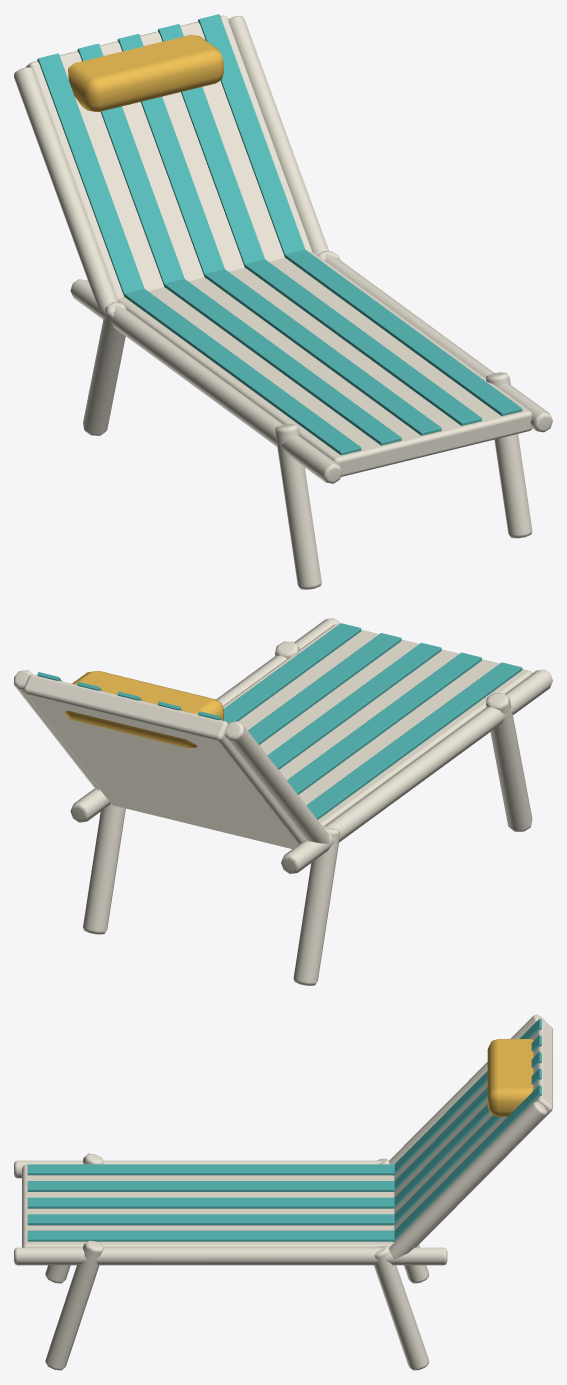
File: lounger.glb
3 renders of one model, top to bottom at view 1: azimuth 30°, elevation 25°; view 2: azimuth 150°, elevation 25°; view 3: azimuth 270°, elevation 25°, orthographic. The views are drawn at different scales.
Visible parts, largest first — view 1: Seat, Back, Pillow, Frame, BackStripe, BackFrame, BackStripe.004, SeatStripe, SeatStripe.004, SeatStripe.003, SeatStripe.001, SeatStripe.002 (+8 smaller); view 2: Back, Seat, Frame, SeatStripe, SeatStripe.001, SeatStripe.002, Pillow, FrontLeg, SeatStripe.003, BackFrame, RearLeg, FrontLeg.001 (+3 smaller); view 3: Seat, Frame.001, SeatStripe.002, SeatStripe.003, SeatStripe, SeatStripe.004, Back, SeatStripe.001, BackFrame.001, Pillow, RearLeg.001, FrontLeg.001 (+9 smaller).
Boxes of the visible parts, left/top/right/bottom form: Seat: left=117, top=251, right=532, bottom=476; Back: left=25, top=15, right=312, bottom=298; Pillow: left=68, top=34, right=223, bottom=111; Frame: left=70, top=279, right=342, bottom=483; BackStripe: left=37, top=53, right=144, bottom=294; BackFrame: left=14, top=67, right=118, bottom=310; BackStripe.004: left=198, top=14, right=305, bottom=257; SeatStripe: left=123, top=288, right=361, bottom=455; SeatStripe.004: left=284, top=249, right=522, bottom=415; SeatStripe.003: left=244, top=259, right=481, bottom=425; SeatStripe.001: left=164, top=279, right=401, bottom=445; SeatStripe.002: left=204, top=269, right=441, bottom=435; Back: left=23, top=674, right=305, bottom=848; Seat: left=222, top=624, right=532, bottom=825; Frame: left=281, top=669, right=552, bottom=873; SeatStripe: left=306, top=662, right=522, bottom=819; SeatStripe.001: left=287, top=652, right=481, bottom=794; SeatStripe.002: left=267, top=642, right=441, bottom=769; Pillow: left=64, top=671, right=223, bottom=748; FrontLeg: left=293, top=826, right=340, bottom=985; SeatStripe.003: left=248, top=633, right=401, bottom=744; BackFrame: left=225, top=721, right=329, bottom=843; RearLeg: left=486, top=693, right=532, bottom=831; FrontLeg.001: left=83, top=804, right=125, bottom=934; Seat: left=22, top=1164, right=394, bottom=1247; Frame.001: left=14, top=1247, right=447, bottom=1265; SeatStripe.002: left=27, top=1197, right=394, bottom=1208; SeatStripe.003: left=27, top=1214, right=394, bottom=1225; SeatStripe: left=27, top=1164, right=394, bottom=1175; SeatStripe.004: left=27, top=1230, right=394, bottom=1241; Back: left=394, top=1019, right=552, bottom=1247; SeatStripe.001: left=27, top=1181, right=394, bottom=1191; BackFrame.001: left=389, top=1101, right=547, bottom=1258; Pillow: left=487, top=1039, right=533, bottom=1116; RearLeg.001: left=45, top=1240, right=103, bottom=1370; FrontLeg.001: left=374, top=1245, right=429, bottom=1370.
Size of the model in its own units: 0.84 by 1.1 by 1.99.
